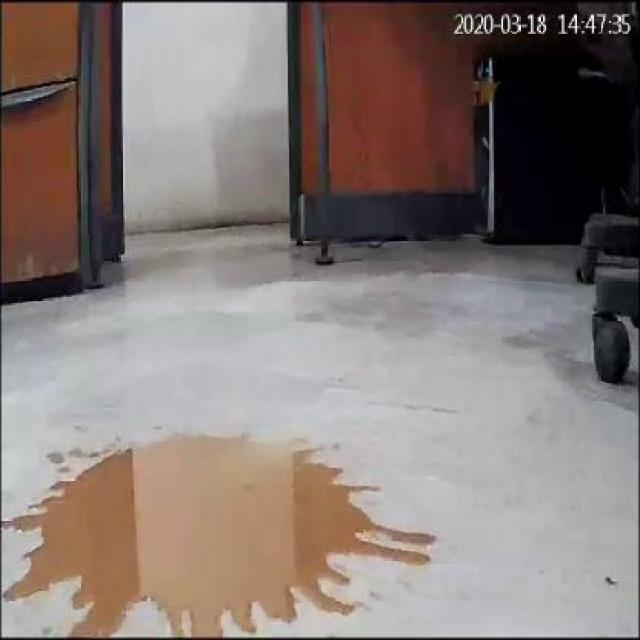spill: (6, 431, 440, 638)
